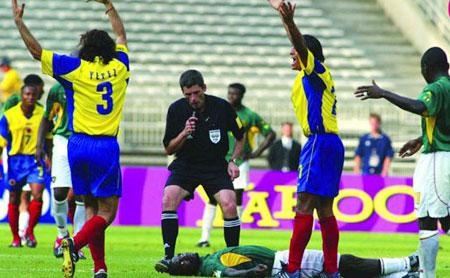10+: (1, 1, 450, 278)
down: (163, 243, 421, 278)
